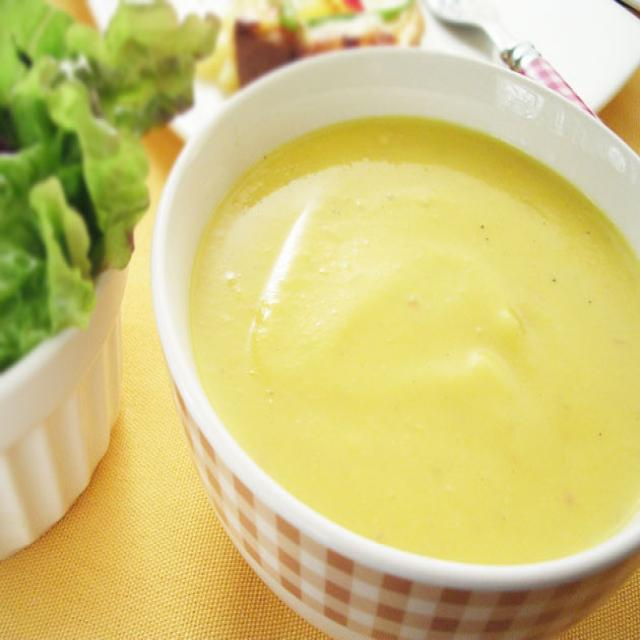汤锅炖物: (130, 31, 640, 640)
